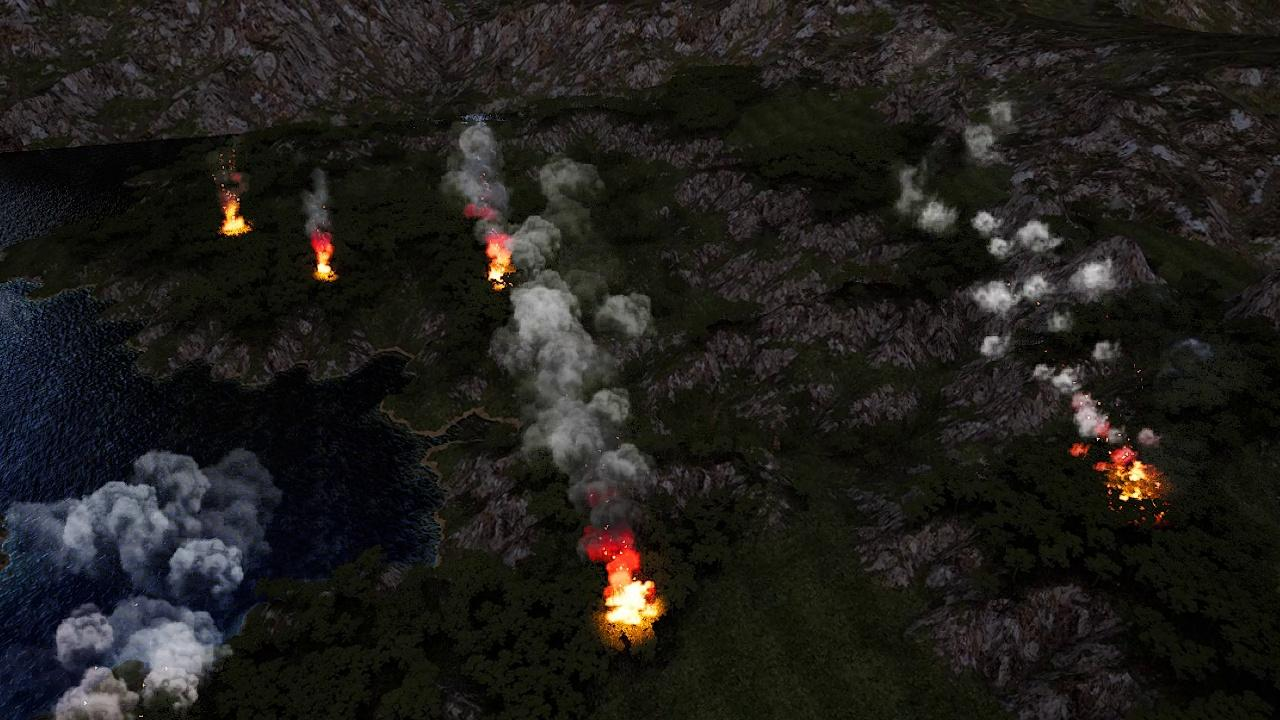fire: (603, 567, 662, 628), (1100, 454, 1160, 504), (485, 237, 514, 284), (313, 235, 340, 280), (219, 201, 246, 233)
smoke: (887, 93, 1158, 454), (446, 122, 657, 571), (6, 441, 290, 715), (300, 166, 331, 237)
